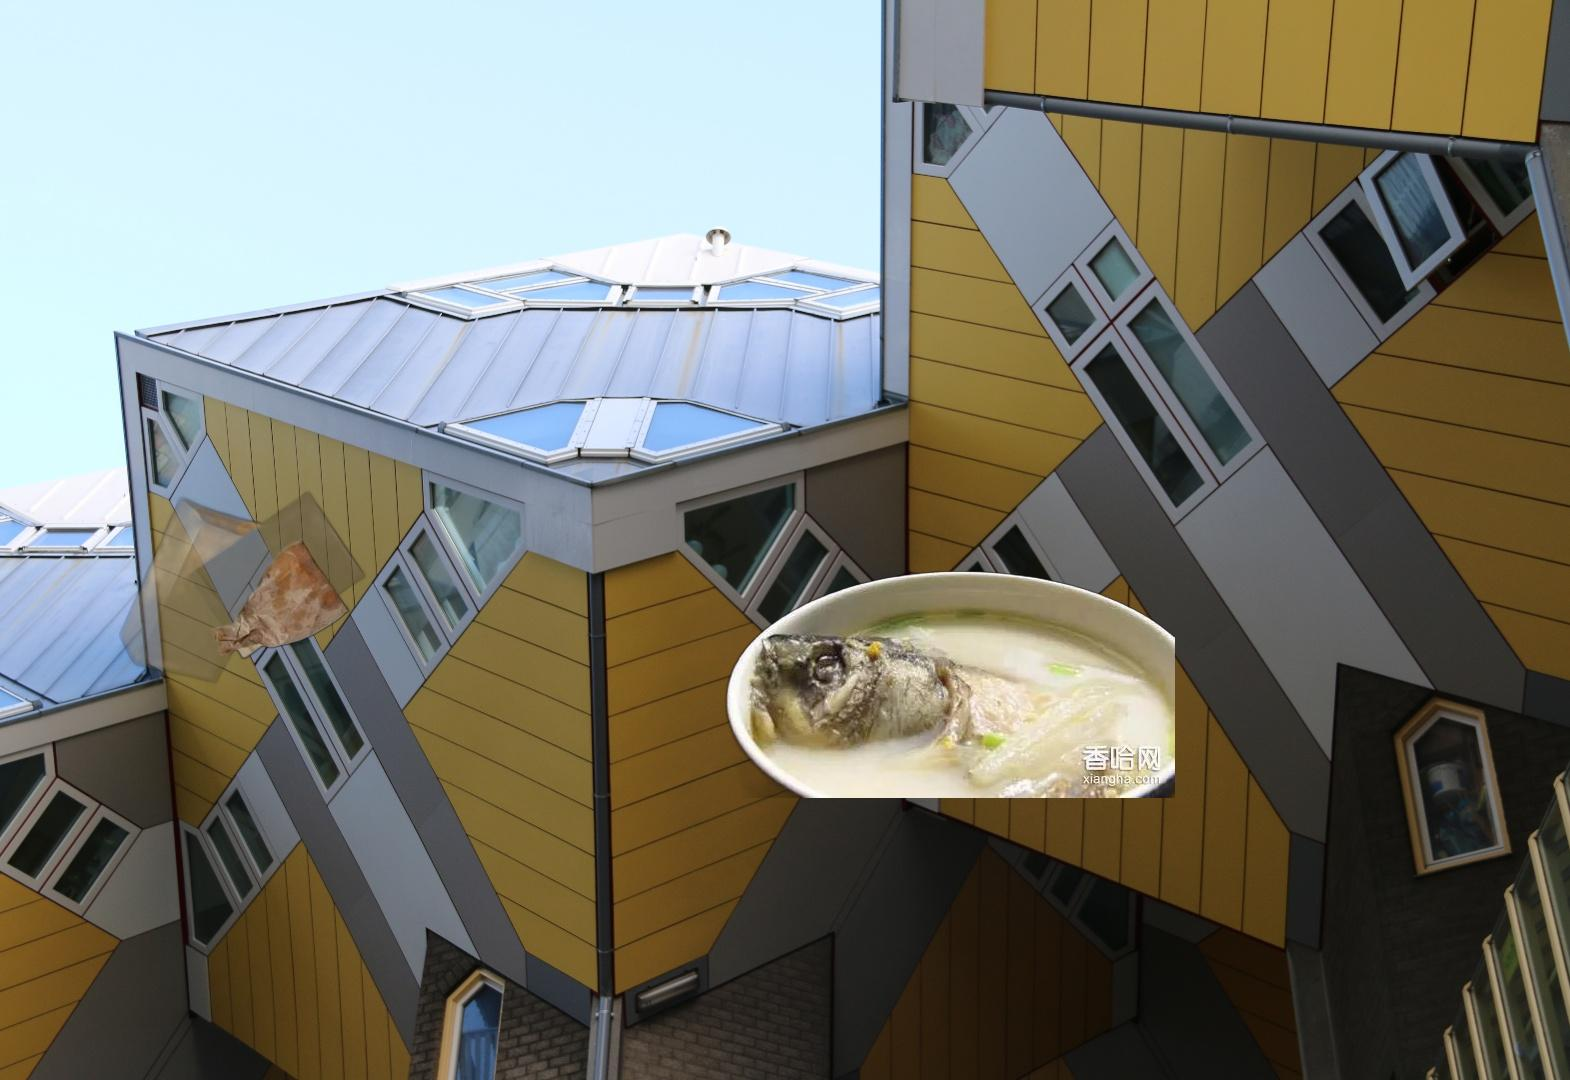biological: (722, 569, 1175, 798)
paper-bag: (97, 437, 369, 690)
